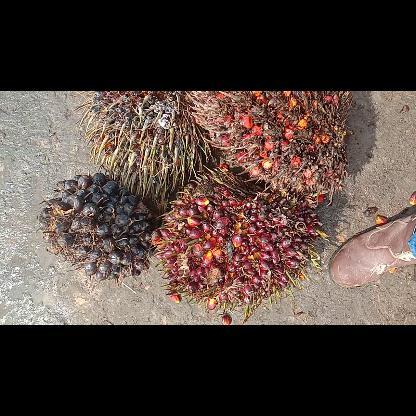TBS abnormal: (79, 91, 213, 199)
TBS masak: (154, 165, 316, 313)
TBS mentah: (40, 172, 156, 278)
Terlalu masak: (188, 90, 354, 206)
